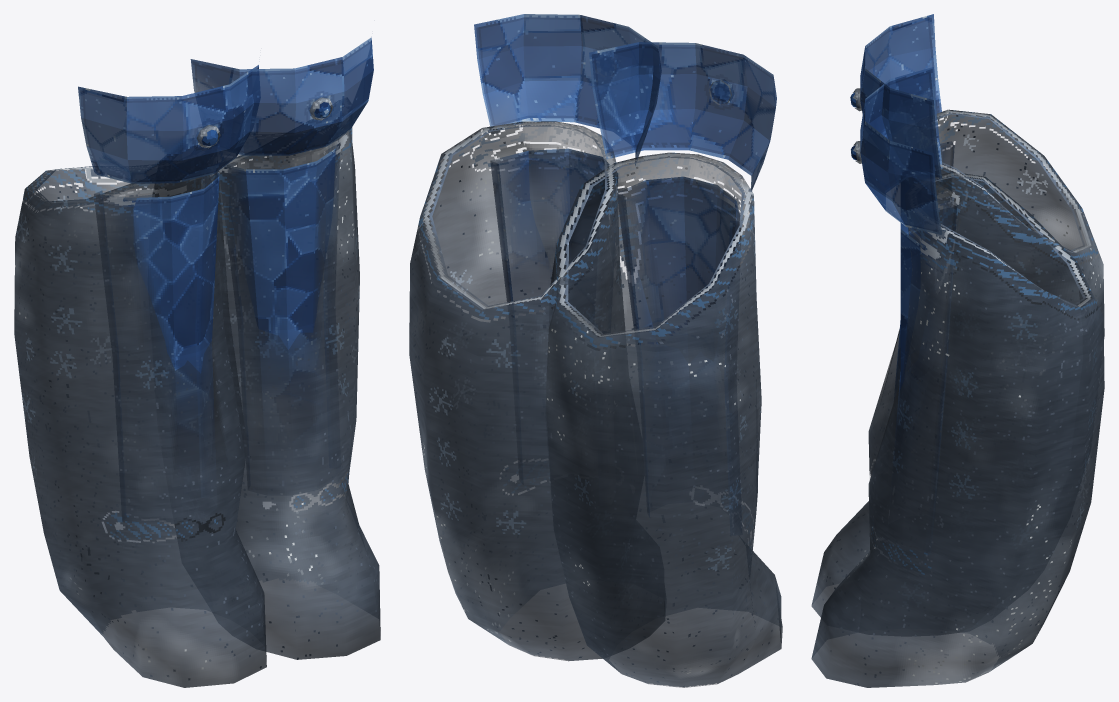
Rendered from bottes_saphir.glb.
3 views of the same model, side by side, from view 1: azimuth 30°, elevation 25°; view 2: azimuth 150°, elevation 25°; view 3: azimuth 270°, elevation 25° (orthographic). The views are drawn at different scales.
Visible parts, largest first — view 1: bottes_saphir.001; view 2: bottes_saphir.001; view 3: bottes_saphir.001.
Part boxes in pixels (x1,y1,x2,y2): bottes_saphir.001: [14, 37, 380, 687]; bottes_saphir.001: [409, 14, 782, 687]; bottes_saphir.001: [811, 14, 1104, 687].
Size of the model in its own units: 0.3594 by 0.6244 by 0.3022.
Materials: 5 (5 with a texture image).
